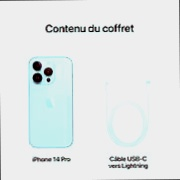iphone: (29, 56, 73, 149)
